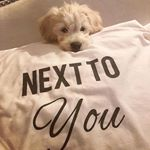puppy: (37, 1, 109, 55)
